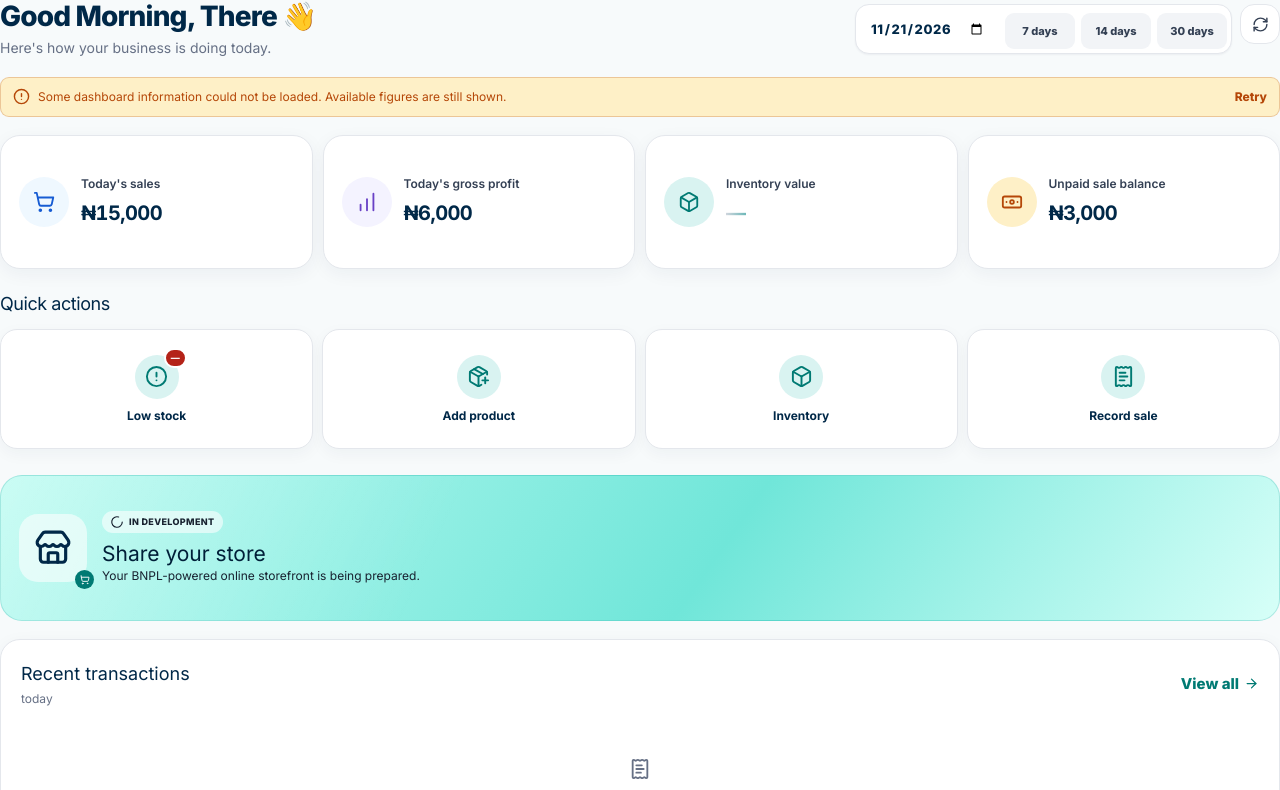
Test case: keeps available dashboard sections visible when one endpoint fails
Expected: the text "Today's sales" is shown, [81,175,162,193]
Expected: the text "Some dashboard information could not be loaded" is shown, [38,89,506,104]
Click the button "— Low stock".
click(157, 389)  # box [0,329,313,449]
(page scrolled)
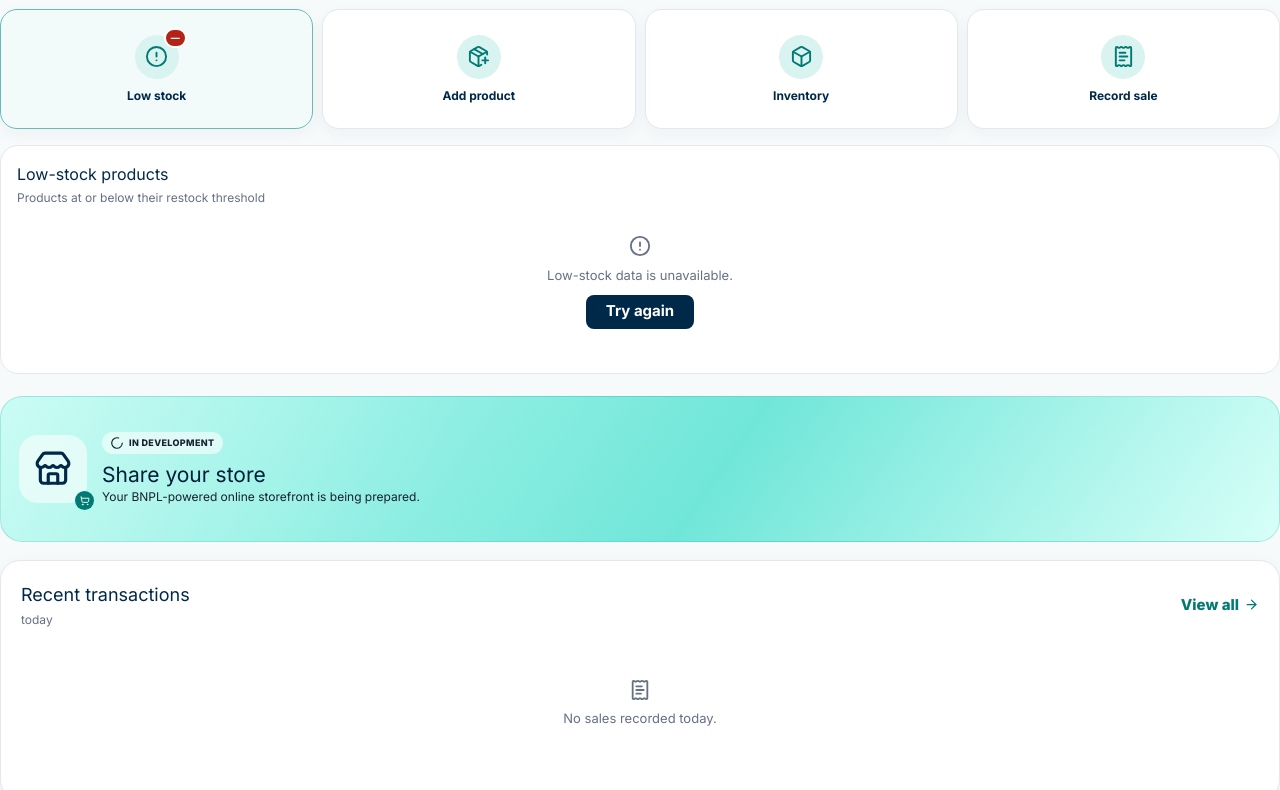
Expected: the text "No sales recorded today." is shown, [563,709,717,729]
Now the text "Low-stock data is unavailable." is shown, box [547,266,733,286]
